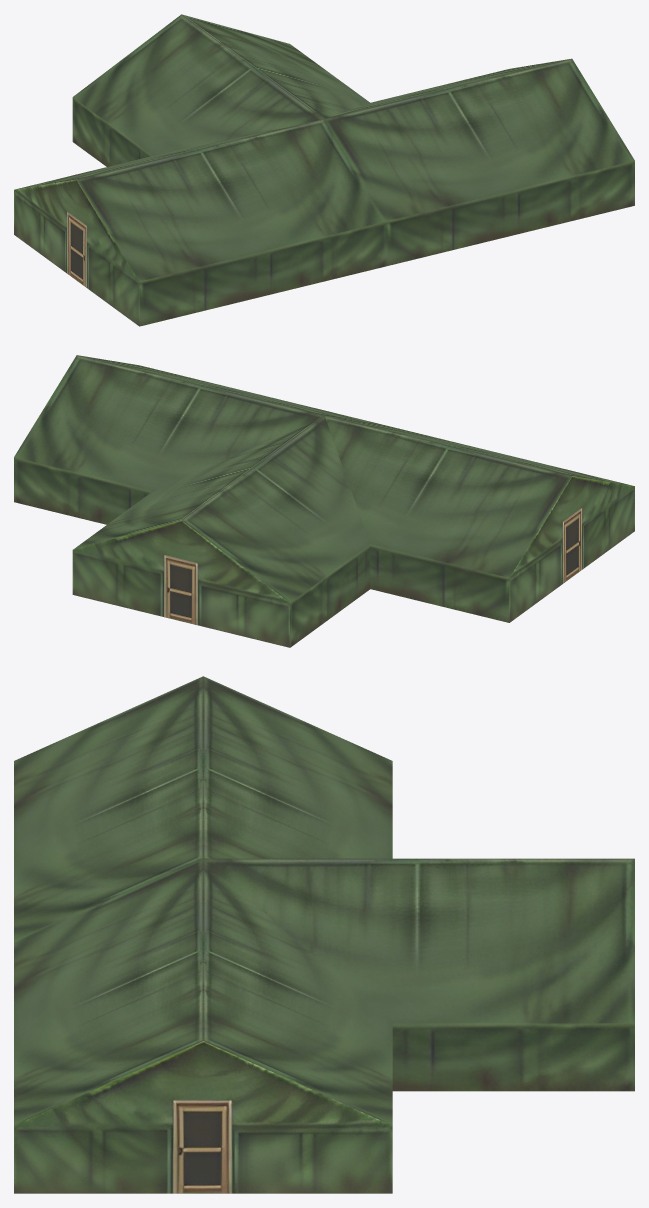
The model's file is hqtent_hdtex.glb.
3 views of the same model, one above another, from view 1: azimuth 30°, elevation 25°; view 2: azimuth 150°, elevation 25°; view 3: azimuth 270°, elevation 25° (orthographic). The views are drawn at different scales.
Parts seen in each view (by area): view 1: HQTent; view 2: HQTent; view 3: HQTent.
Part boxes in pixels (<box>): HQTent: <box>14,14,634,326</box>; HQTent: <box>14,355,634,647</box>; HQTent: <box>14,676,634,1193</box>.
Size of the model in its own units: 16.18 by 3.16 by 11.64.
Materials: 1 (1 with a texture image).
